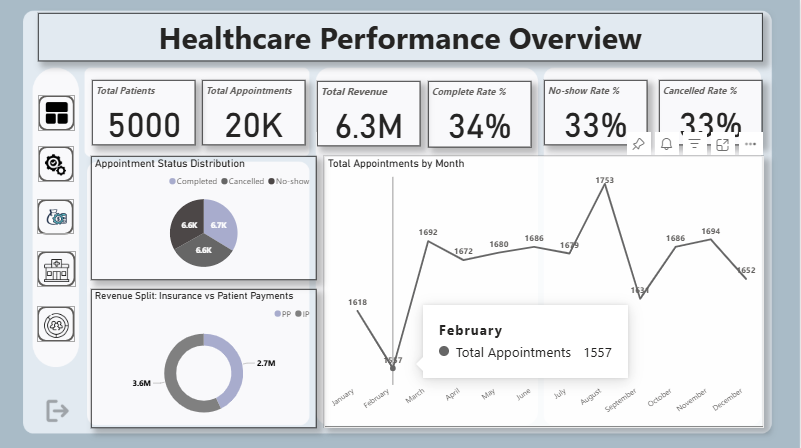

The dashboard page shown, as its layout file describes it:
{"tool":"powerbi","page":{"name":"Overview","canvas":[1280,720],"ordinal":0},"visuals":[{"type":"card","fields":{"Values":["_Measure Table.Total Appointment"]},"box":[324.2,129.3,164.6,104.1],"z":0},{"type":"card","fields":{"Values":["_Measure Table.Total Patients"]},"box":[147.8,129.3,164.6,104.1],"z":1000},{"type":"card","fields":{"Values":["_Measure Table.Total Revenue"]},"box":[507.3,131,164.6,104.1],"z":2000},{"type":"card","fields":{"Values":["_Measure Table.NoShow Rate"]},"box":[870.1,129.3,164.6,104.1],"z":3000},{"type":"card","fields":{"Values":["_Measure Table.Cancelled Rate"]},"box":[1053.2,129.3,164.6,104.1],"z":4000},{"type":"card","fields":{"Values":["_Measure Table.Completed Rate"]},"box":[685.4,131,164.6,105.8],"z":5000},{"type":"lineChart","title":"Total Appointments by Month","fields":{"Category":["appointments.appointment_date.Variation.Date Hierarchy.Month"],"Y":["_Measure Table.Total Appointments"]},"box":[518.7,251.3,702.4,433.5],"z":6000},{"type":"pieChart","title":"Appointment Status Distribution","fields":{"Category":["appointments.status"],"Y":["_Measure Table.Total Appointments"]},"box":[146.9,251.3,360,198.4],"z":7000},{"type":"donutChart","title":"Revenue Split: Insurance vs Patient Payments","fields":{"Y":["_Measure Table.Total Patient Paid","_Measure Table.Total Insurance"]},"box":[146.9,462.9,360,221.9],"z":8000},{"type":"group","id":"g1","title":"Group 1","box":[62.9,152.9,58.6,57.1],"z":9000},{"type":"actionButton","box":[62.9,152.9,58.6,57.1],"z":9000,"group":"g1"},{"type":"actionButton","box":[62.9,234.3,57.1,57.1],"z":9000,"group":"g2"},{"type":"group","id":"g2","title":"Group 2","box":[62.9,234.3,57.1,57.1],"z":10000},{"type":"actionButton","box":[61.4,318.6,58.6,57.1],"z":10000,"group":"g3"},{"type":"image","box":[67.8,237.2,46.2,54.3],"z":11000,"group":"g2"},{"type":"group","id":"g3","title":"Group 3","box":[61.4,318.6,58.6,57.1],"z":11000},{"type":"actionButton","box":[61.4,402.9,61.4,57.1],"z":11000,"group":"g4"},{"type":"image","box":[69.1,152.9,47.4,57.1],"z":12000,"group":"g1"},{"type":"group","id":"g4","title":"Group 4","box":[61.4,402.9,61.4,57.1],"z":12000},{"type":"actionButton","box":[61.4,490,60,57.1],"z":12000,"group":"g5"},{"type":"group","id":"g5","title":"Group 5","box":[61.4,490,60,57.1],"z":13000},{"type":"textbox","box":[61.7,21.7,1156.7,76.7],"z":14000},{"type":"image","box":[68.9,318.6,47.4,57.1],"z":14000,"group":"g3"},{"type":"image","box":[67.9,407.2,49.7,52.9],"z":14002,"group":"g4"},{"type":"image","box":[67.8,494.3,48.5,52.9],"z":14004,"group":"g5"}]}

Visuals, with their boxes on the page's 1280x720 design canvas (x1, y1, x2, y2). These are canvas units, not pixel positions in the 801x448 screenshot, which may show the page scaled, cropped or inside an application window:
card - _Measure Table.Total Appointment: (left=324, top=129, right=489, bottom=233)
card - _Measure Table.Total Patients: (left=148, top=129, right=312, bottom=233)
card - _Measure Table.Total Revenue: (left=507, top=131, right=672, bottom=235)
card - _Measure Table.NoShow Rate: (left=870, top=129, right=1035, bottom=233)
card - _Measure Table.Cancelled Rate: (left=1053, top=129, right=1218, bottom=233)
card - _Measure Table.Completed Rate: (left=685, top=131, right=850, bottom=237)
"Total Appointments by Month" lineChart: (left=519, top=251, right=1221, bottom=685)
"Appointment Status Distribution" pieChart: (left=147, top=251, right=507, bottom=450)
"Revenue Split: Insurance vs Patient Payments" donutChart: (left=147, top=463, right=507, bottom=685)
"Group 1" group: (left=63, top=153, right=122, bottom=210)
actionButton: (left=63, top=153, right=122, bottom=210)
actionButton: (left=63, top=234, right=120, bottom=291)
"Group 2" group: (left=63, top=234, right=120, bottom=291)
actionButton: (left=61, top=319, right=120, bottom=376)
image: (left=68, top=237, right=114, bottom=292)
"Group 3" group: (left=61, top=319, right=120, bottom=376)
actionButton: (left=61, top=403, right=123, bottom=460)
image: (left=69, top=153, right=116, bottom=210)
"Group 4" group: (left=61, top=403, right=123, bottom=460)
actionButton: (left=61, top=490, right=121, bottom=547)
"Group 5" group: (left=61, top=490, right=121, bottom=547)
textbox: (left=62, top=22, right=1218, bottom=98)
image: (left=69, top=319, right=116, bottom=376)
image: (left=68, top=407, right=118, bottom=460)
image: (left=68, top=494, right=116, bottom=547)
